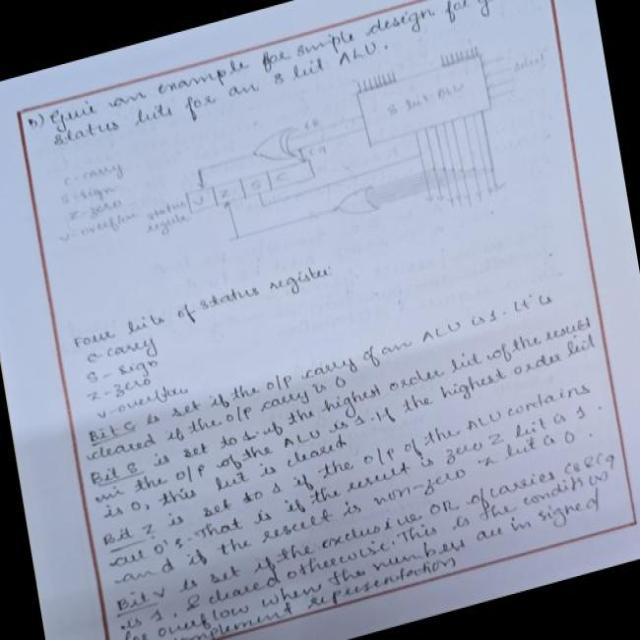Figure Detection - v3 Dataset Version2: (37, 15, 572, 325)
